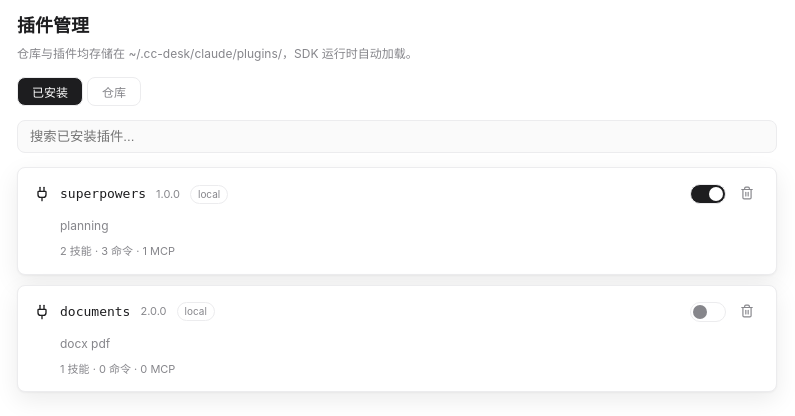
Test: PluginSettings › 插件搜索过滤并显示统计
The width and height of the screenshot is (795, 416).
Expected: the text "superpowers" is shown, left=60, top=184, right=146, bottom=204
Expected: the text "2 技能 · 3 命令 · 1 MCP" is shown, left=60, top=244, right=175, bottom=258
Step 1. Type "docx" into the field with placeholder "搜索已安装插件..." → [397, 136], box left=17, top=120, right=777, bottom=153
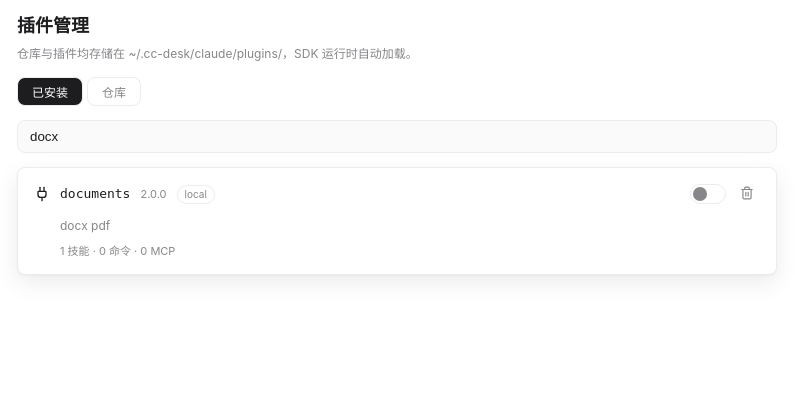
Expected: the text "documents" is shown, left=60, top=184, right=130, bottom=204
Expected: the text "superpowers" is gone
